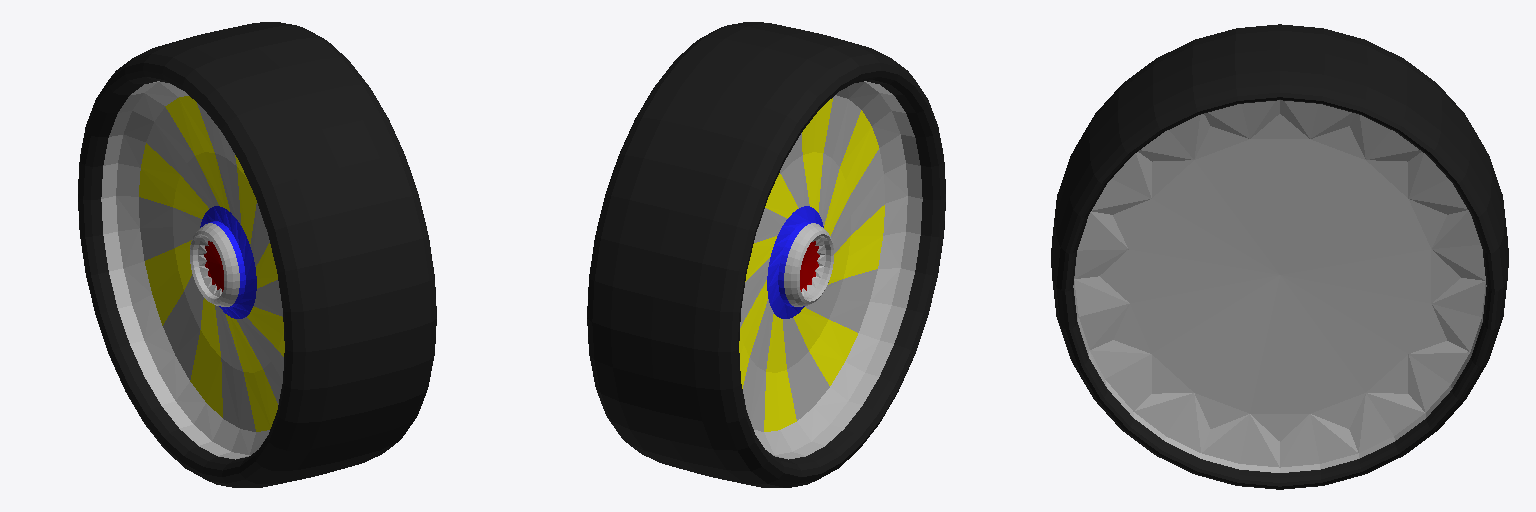
Rendered from Wheel.obj.
3 renders of one model, left to right at view 1: azimuth 30°, elevation 25°; view 2: azimuth 150°, elevation 25°; view 3: azimuth 270°, elevation 25°, orthographic.
Visible parts, largest first — view 1: Cylinder1; view 2: Cylinder1; view 3: Cylinder1.
Part boxes in pixels (bbox=[...]): Cylinder1: bbox=[78, 22, 436, 487]; Cylinder1: bbox=[587, 22, 945, 487]; Cylinder1: bbox=[1051, 24, 1508, 489].
Bounding box in the file's own units: 0.7275 × 1.96 × 1.96.